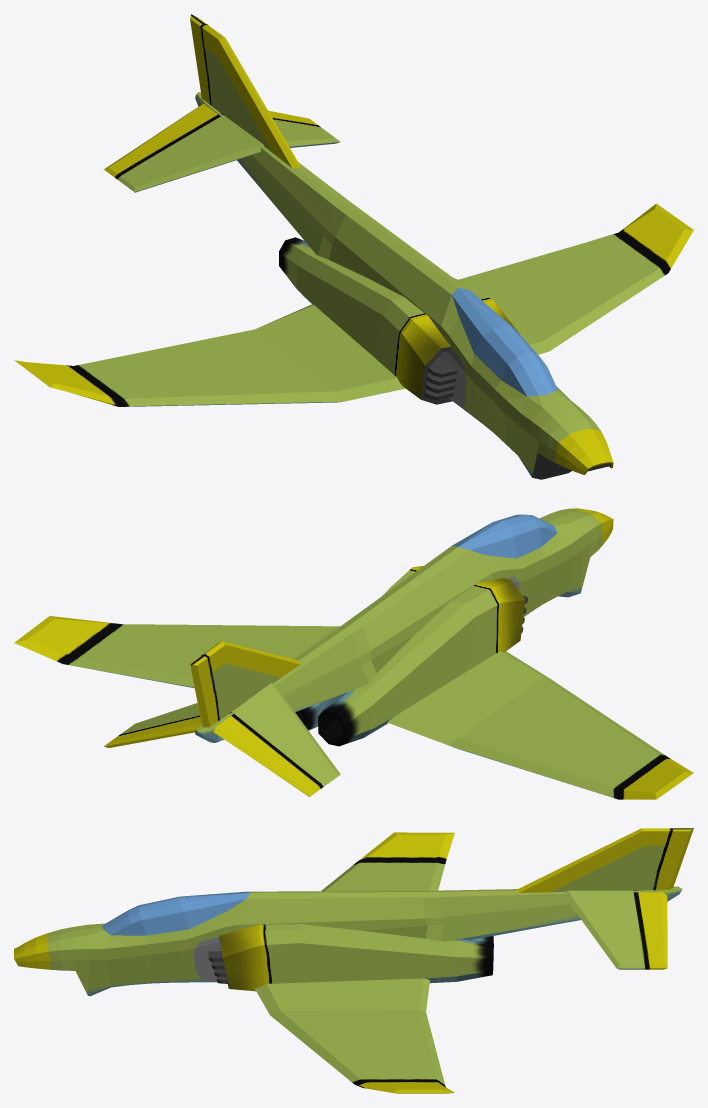
Rendered from Spectre_BODY.fbx.
The picture shows the model from 3 angles, top to bottom: view 1: azimuth 30°, elevation 25°; view 2: azimuth 150°, elevation 25°; view 3: azimuth 270°, elevation 25°; orthographic projection. The views are drawn at different scales.
Parts seen in each view (by area): view 1: Plane; view 2: Plane; view 3: Plane.
Part boxes in pixels (x1,y1,x2,y2): Plane: (14, 14, 693, 479); Plane: (14, 508, 693, 799); Plane: (14, 828, 693, 1093).
Size of the model in its own units: 802 by 233 by 884.
Materials: 1 (1 with a texture image).
